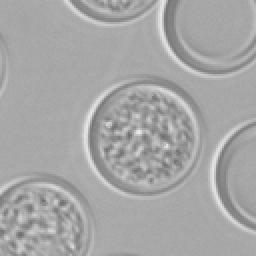picoshell: (82, 78, 202, 196), (0, 174, 92, 254), (158, 0, 254, 76), (208, 118, 254, 232), (64, 0, 156, 24), (0, 34, 8, 96)
